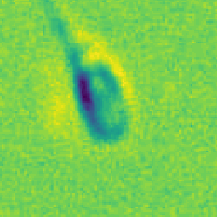normal: (39, 1, 115, 61)
